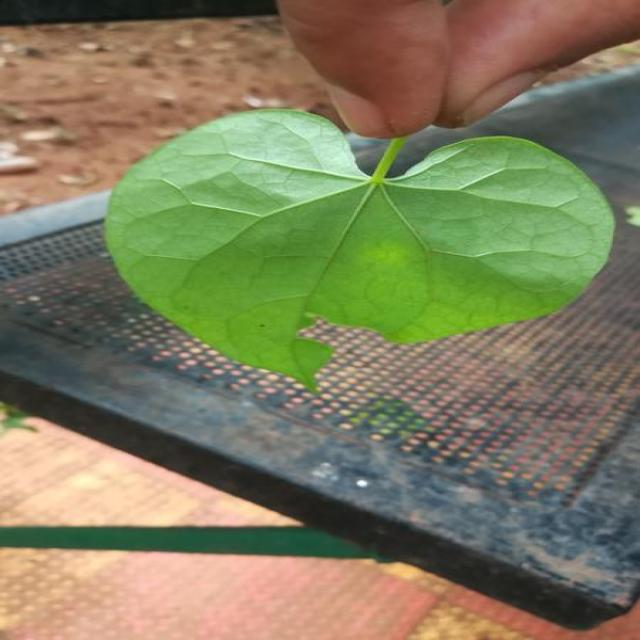Amruthaballi: (105, 110, 613, 388)
